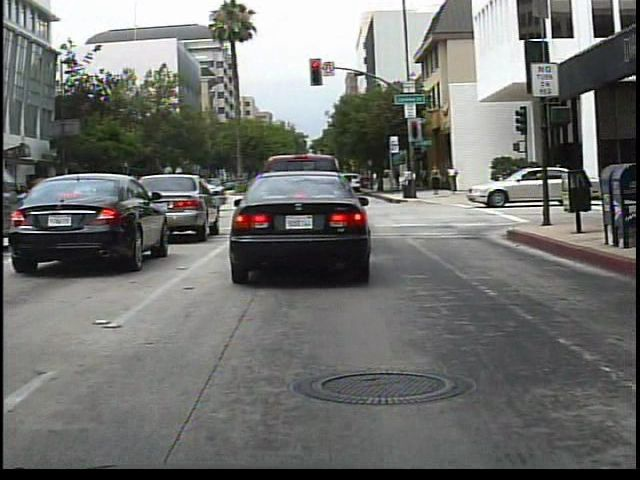person: (510, 156, 532, 199), (428, 160, 446, 199), (443, 162, 460, 197)
